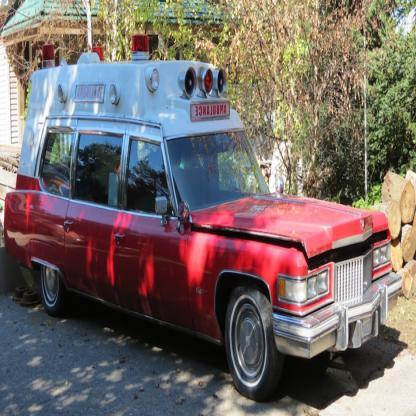Ambulance - v1 Ambulance last generate: (3, 20, 401, 396)
